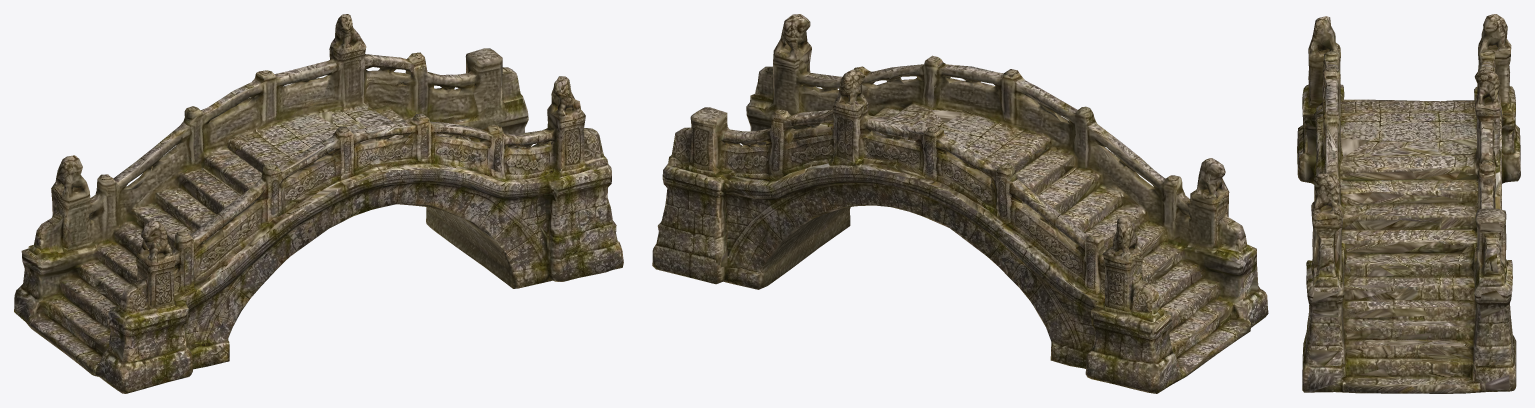
The model's file is ponte.glb.
The picture shows the model from 3 angles, left to right: view 1: azimuth 30°, elevation 25°; view 2: azimuth 150°, elevation 25°; view 3: azimuth 270°, elevation 25°; orthographic projection.
Visible parts, largest first — view 1: ponte; view 2: ponte; view 3: ponte.
Part boxes in pixels (x1,y1,x2,y2): ponte: (14,14,623,393); ponte: (652,14,1268,393); ponte: (1297,14,1520,393).
Bounding box in the file's own units: 9 × 3.9 × 3.37.
1 material, 1 textured.
